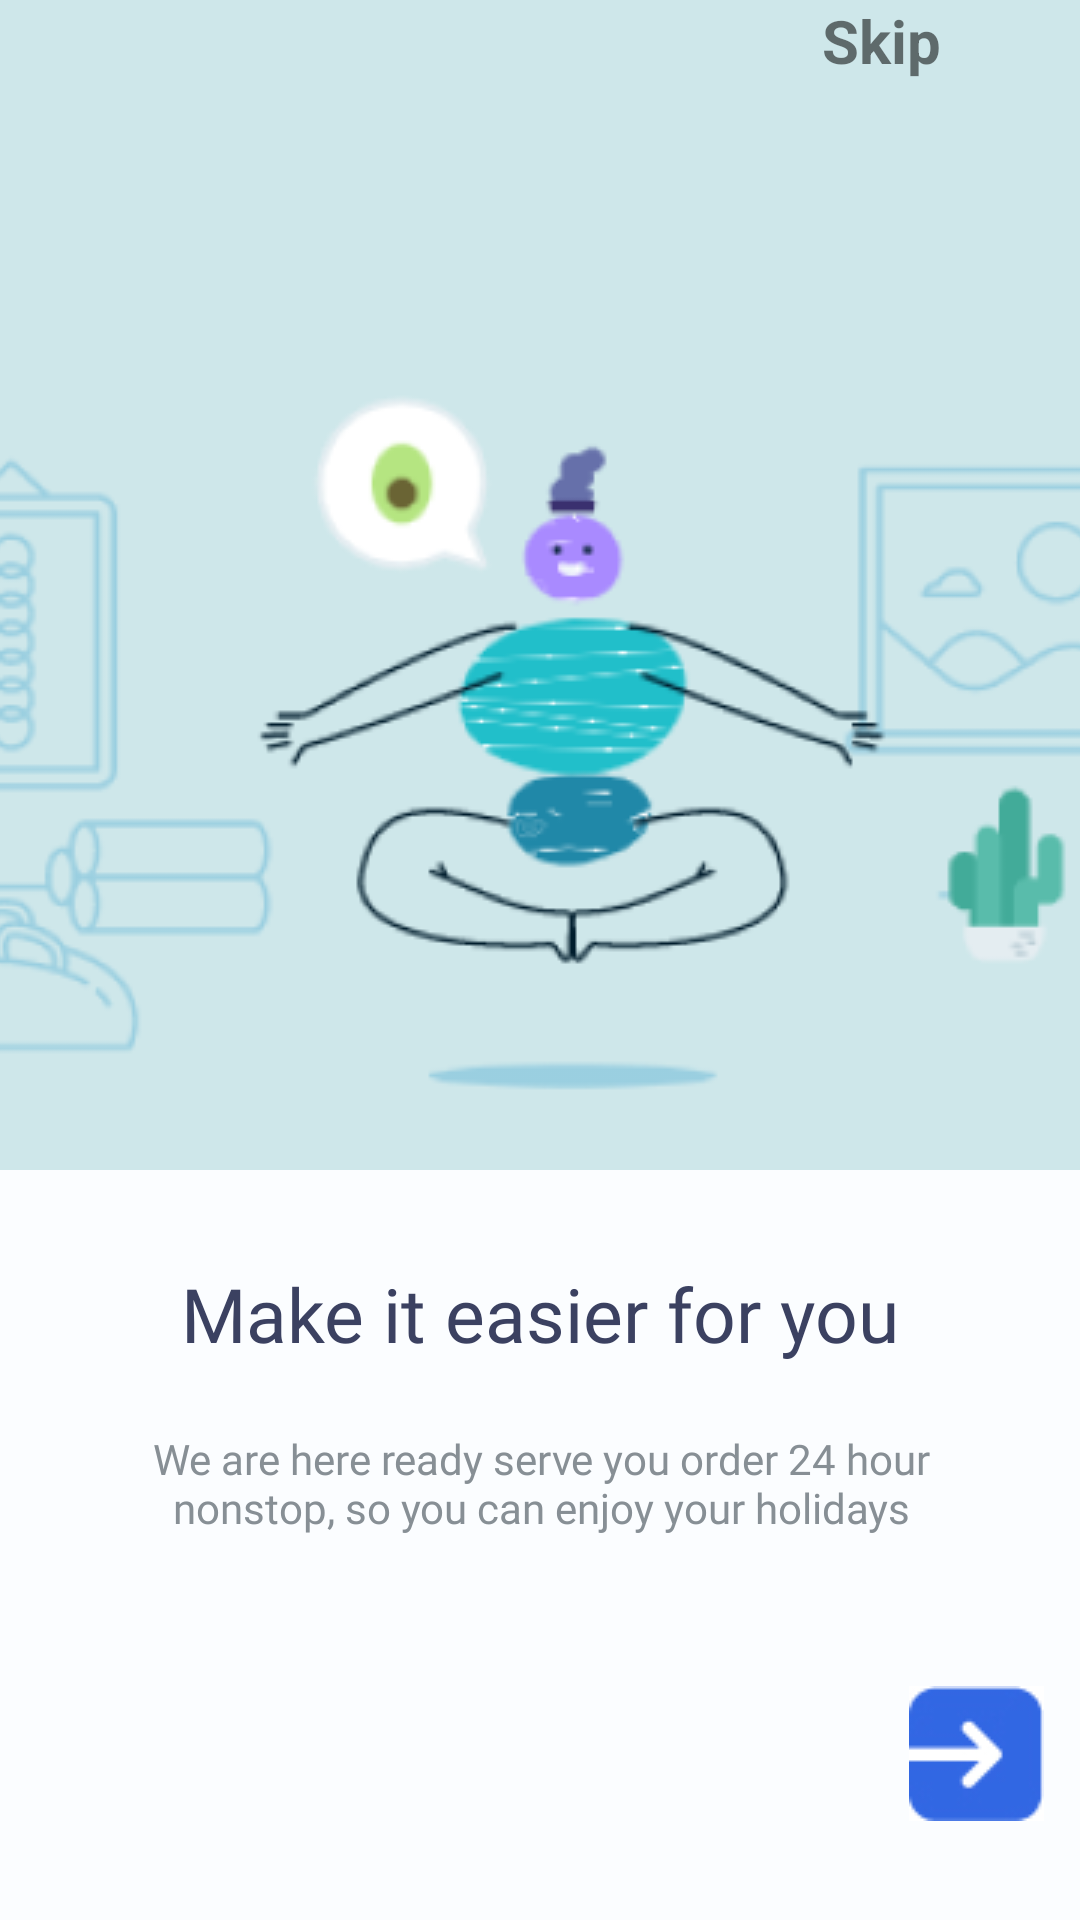

Icons on this 1080*1920 Android screen, each with the point to tap as (x,y):
next: (975,1753)
